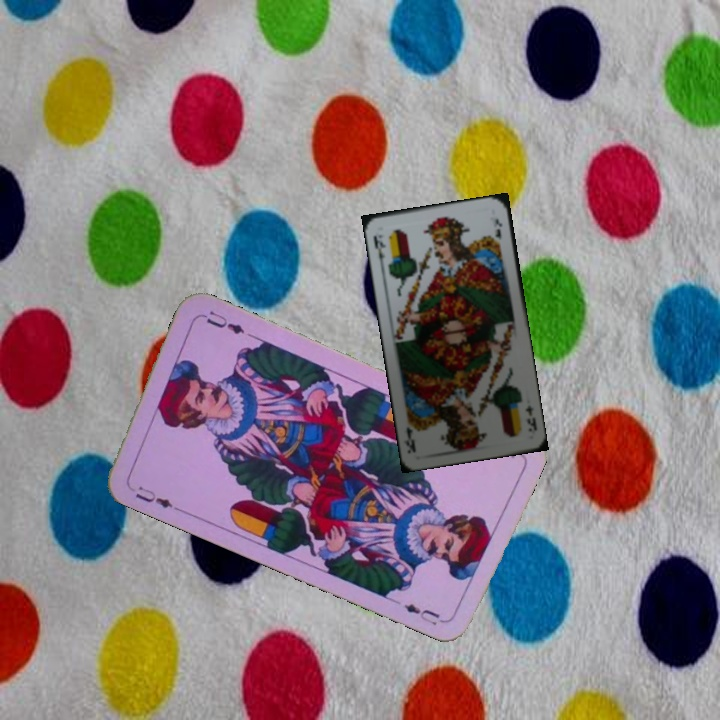EK: (369, 231, 388, 269), (521, 401, 540, 436)
EU: (131, 482, 182, 514)
